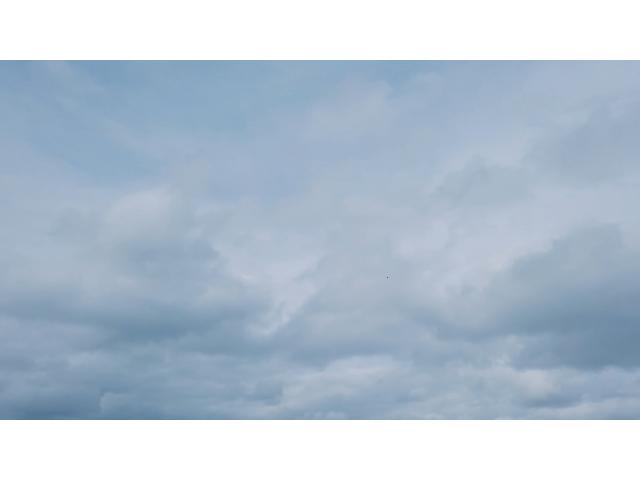Anti-Drone: (382, 274, 392, 283)
